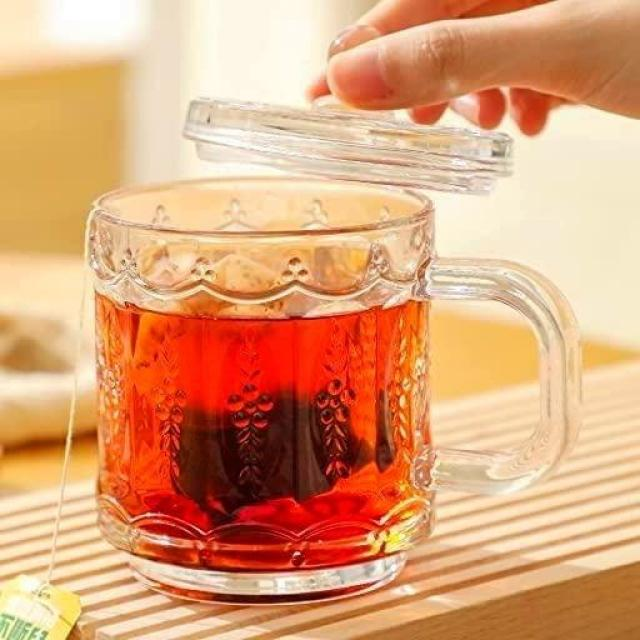glass-mug: (88, 168, 588, 610)
